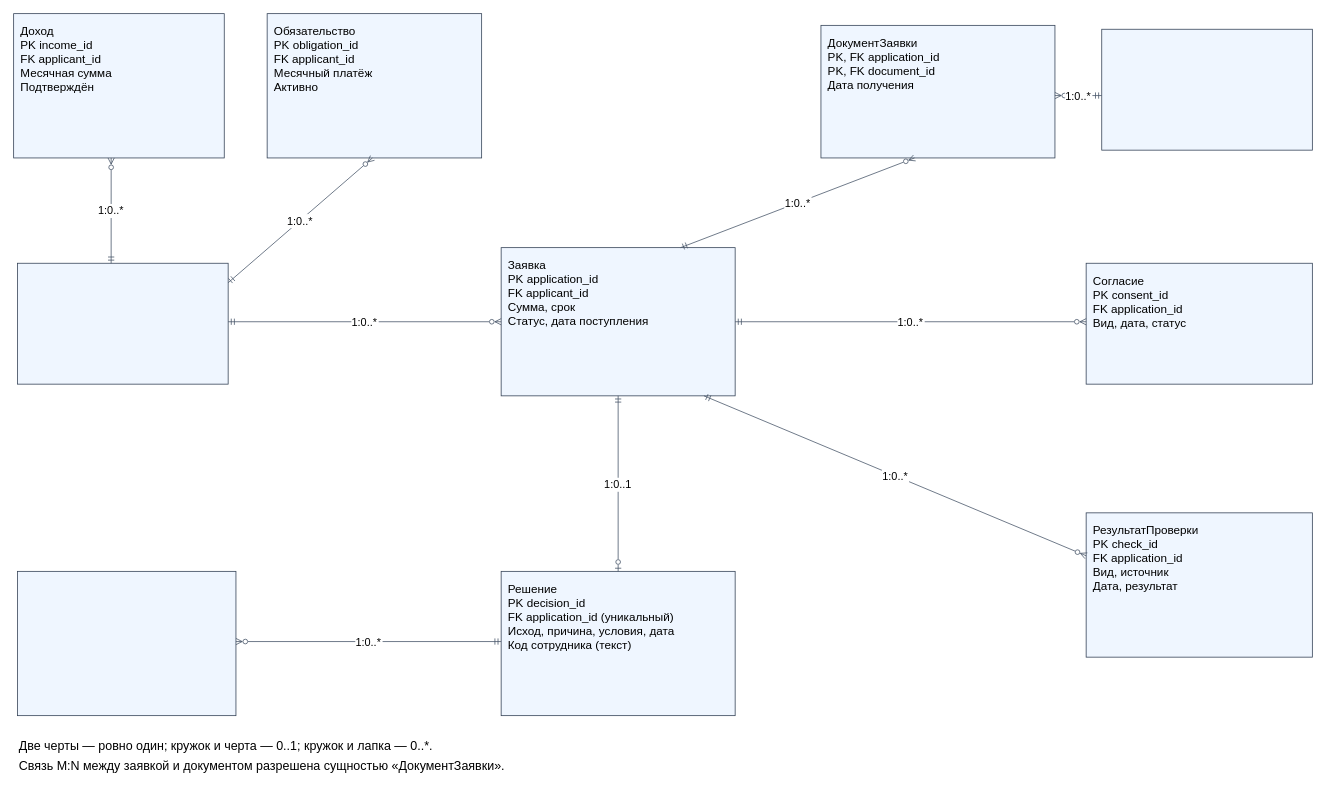
The diagram is 1326 pixels wide and 786 high, and some of its shapes have lost their labels. The centre of each missing label's shape, as x and y in pixels:
Документ PK document_id Вид Действителен: pixel 1206 89
Заявитель PK applicant_id ФИО Контакт: pixel 122 323
Уведомление PK notification_id FK decision_id Канал, дата Статус передачи: pixel 126 643
